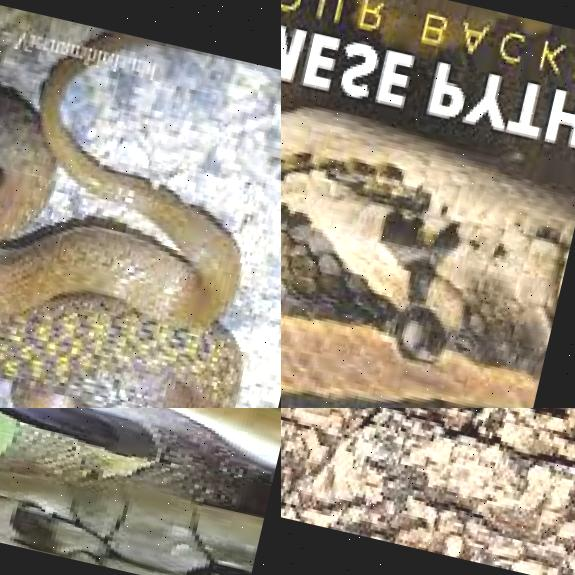snake: (281, 0, 575, 408), (0, 0, 281, 408), (0, 408, 281, 575), (281, 408, 575, 484)
